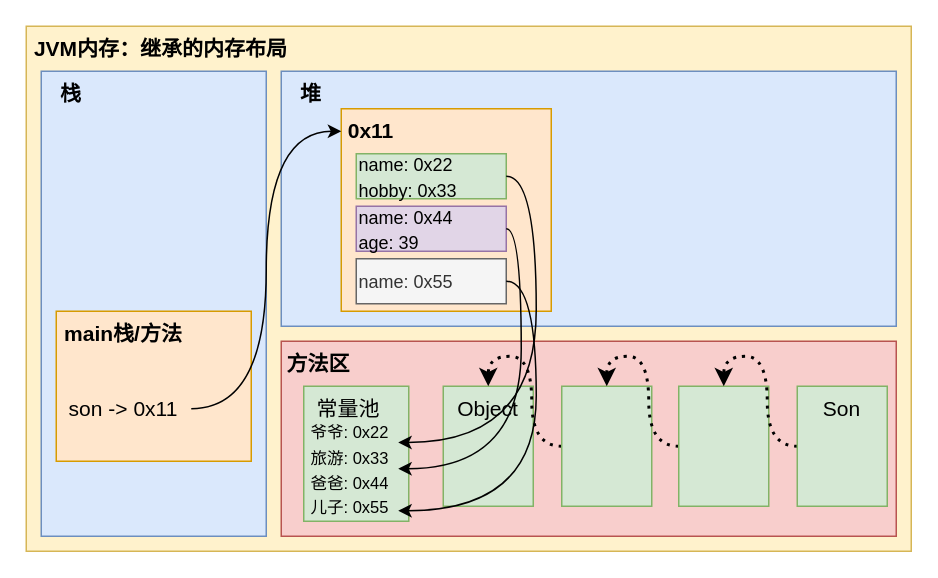
This 938x578 diagram has some shape labels left out. The shapes that lost their labels are listed below. From the top down, each one's centre as x and y in pixels, then its label:
At pixel 606 445: "Grandpa".
At pixel 723 445: "Father".
